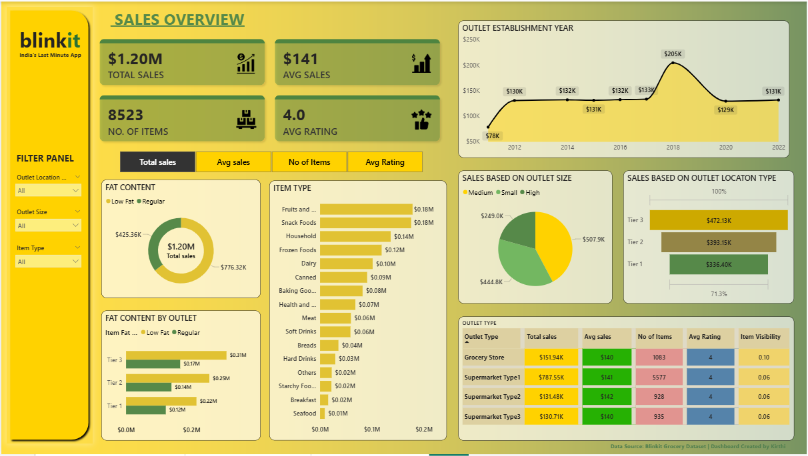

What the dashboard file says about the page in this screenshot:
{"tool":"powerbi","page":{"name":"Blinkit sales analysis","canvas":[1920,1080],"ordinal":0},"visuals":[{"type":"shape","box":[12.5,12.5,205,1042.5],"z":0},{"type":"textbox","box":[38,52,164,74],"z":1000},{"type":"cardVisual","fields":{"Data":["Blinkit Grocery Data.Total sales","Blinkit Grocery Data.Avg sales","Blinkit Grocery Data.No of Items","Blinkit Grocery Data.Avg Rating"]},"box":[217.1,71.6,847,279.2],"z":2000},{"type":"cardVisual","fields":{"Data":["Blinkit Grocery Data.Total sales"]},"box":[515,503.3,20,68.3],"z":3000},{"type":"clusteredBarChart","title":"FAT CONTENT BY OUTLET","fields":{"Y":["Blinkit Grocery Data.Total sales"],"Series":["Blinkit Grocery Data.Item Fat Content"],"Category":["Blinkit Grocery Data.Outlet Location Type"]},"box":[238,738,380,310],"z":4000},{"type":"clusteredBarChart","title":"ITEM TYPE","fields":{"Y":["Blinkit Grocery Data.Total sales"],"Category":["Blinkit Grocery Data.Item Type"]},"box":[640,426.7,423.3,620],"z":5000},{"type":"lineChart","title":"OUTLET ESTABLISHMENT YEAR","fields":{"Y":["Blinkit Grocery Data.Total sales"],"Category":["Blinkit Grocery Data.Outlet Establishment Year"]},"box":[1090,45,790,327.5],"z":6000},{"type":"funnel","title":"SALES BASED ON OUTLET LOCATON TYPE","fields":{"Category":["Blinkit Grocery Data.Outlet Location Type"],"Y":["Blinkit Grocery Data.Total sales"]},"box":[1485,402.5,407.5,317.5],"z":7000},{"type":"pivotTable","title":"OUTLET TYPE ","fields":{"Rows":["Blinkit Grocery Data.Outlet Type"],"Values":["Blinkit Grocery Data.Total sales","Blinkit Grocery Data.Avg sales","Blinkit Grocery Data.No of Items","Blinkit Grocery Data.Avg Rating","Avg(Blinkit Grocery Data.Item Visibility)"]},"box":[1090,752,802,286],"z":8000},{"type":"donutChart","title":"FAT CONTENT","fields":{"Y":["Blinkit Grocery Data.Total sales"],"Category":["Blinkit Grocery Data.Item Fat Content"]},"box":[237.5,425,380,282.5],"z":9000},{"type":"slicer","fields":{"Values":["Metrics 2.Metrics"]},"box":[257.1,351.4,771.4,62.9],"z":10000},{"type":"cardVisual","fields":{"Data":["Blinkit Grocery Data.Total sales"]},"box":[344,520,170,146],"z":11000},{"type":"pieChart","title":"SALES BASED ON OUTLET SIZE ","fields":{"Category":["Blinkit Grocery Data.Outlet Size"],"Y":["Blinkit Grocery Data.Total sales"]},"box":[1090,402.5,367.5,317.5],"z":12000},{"type":"slicer","fields":{"Values":["Blinkit Grocery Data.Outlet Location Type"]},"box":[25,403.3,176.7,93.3],"z":13000},{"type":"slicer","fields":{"Values":["Blinkit Grocery Data.Outlet Size"]},"box":[25,486.7,176.7,80],"z":14000},{"type":"slicer","fields":{"Values":["Blinkit Grocery Data.Item Type"]},"box":[25,571.7,176.7,86.7],"z":15000},{"type":"textbox","box":[30,112,172,30],"z":16000},{"type":"textbox","box":[30,354,172,40],"z":17000},{"type":"textbox","box":[256.1,10,504.3,60.8],"z":18000},{"type":"textbox","box":[1428,1040,444,34],"z":19000}]}

Visuals, with their boxes in screenshot pixels (x1, y1, x2, y2), scaled from the page's 1920x1080 canvas onto the 808x456 screenshot:
shape: (5,5,92,445)
textbox: (16,22,85,53)
cardVisual - Blinkit Grocery Data.Total sales x Blinkit Grocery Data.Avg sales: (91,30,448,148)
cardVisual - Blinkit Grocery Data.Total sales: (217,213,225,241)
"FAT CONTENT BY OUTLET" clusteredBarChart: (100,312,260,442)
"ITEM TYPE" clusteredBarChart: (269,180,447,442)
"OUTLET ESTABLISHMENT YEAR" lineChart: (459,19,791,157)
"SALES BASED ON OUTLET LOCATON TYPE" funnel: (625,170,796,304)
"OUTLET TYPE " pivotTable: (459,318,796,438)
"FAT CONTENT" donutChart: (100,179,260,299)
slicer - Metrics 2.Metrics: (108,148,433,175)
cardVisual - Blinkit Grocery Data.Total sales: (145,220,216,281)
"SALES BASED ON OUTLET SIZE " pieChart: (459,170,613,304)
slicer - Blinkit Grocery Data.Outlet Location Type: (11,170,85,210)
slicer - Blinkit Grocery Data.Outlet Size: (11,205,85,239)
slicer - Blinkit Grocery Data.Item Type: (11,241,85,278)
textbox: (13,47,85,60)
textbox: (13,149,85,166)
textbox: (108,4,320,30)
textbox: (601,439,788,453)
